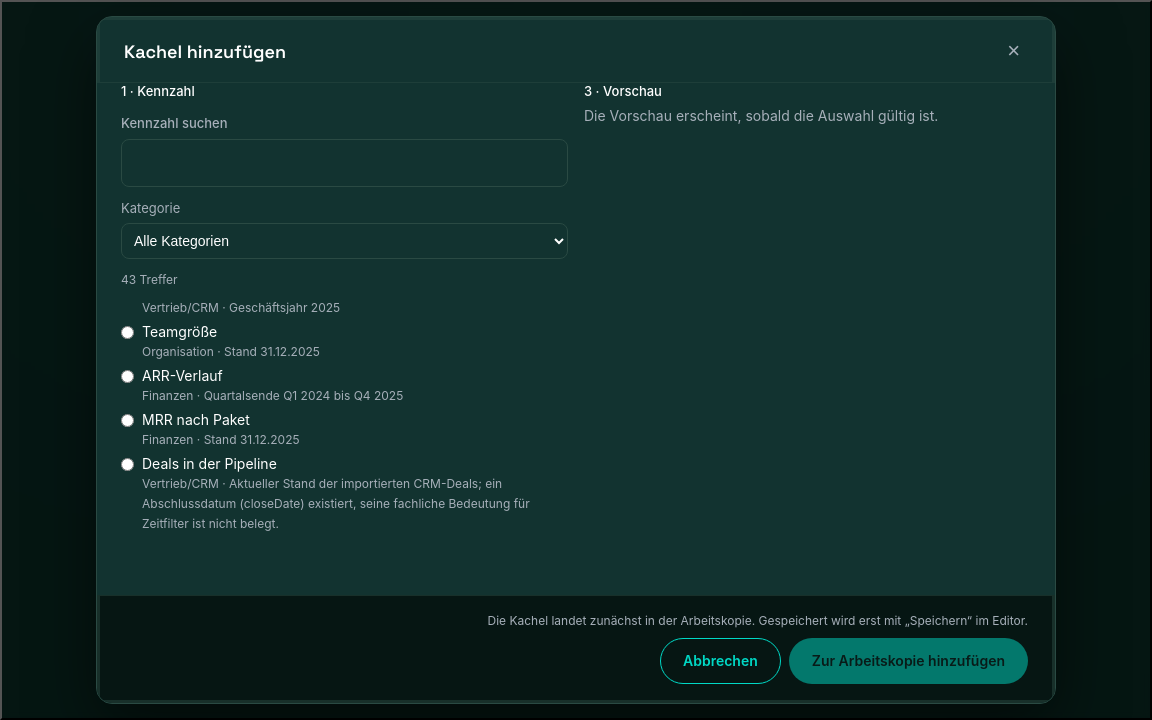
Scenario: TileConfigurator mit Kombination › Anteil bietet Ring an; Entfernen stellt die erste Kennzahl wieder her
The image size is (1152, 720).
(page scrolled)
Click the radio button labelled "MRR nach Paket Finanzen · Stand 31.12.2025". click: (128, 420)
box: [121,414,134,427]
(page scrolled)
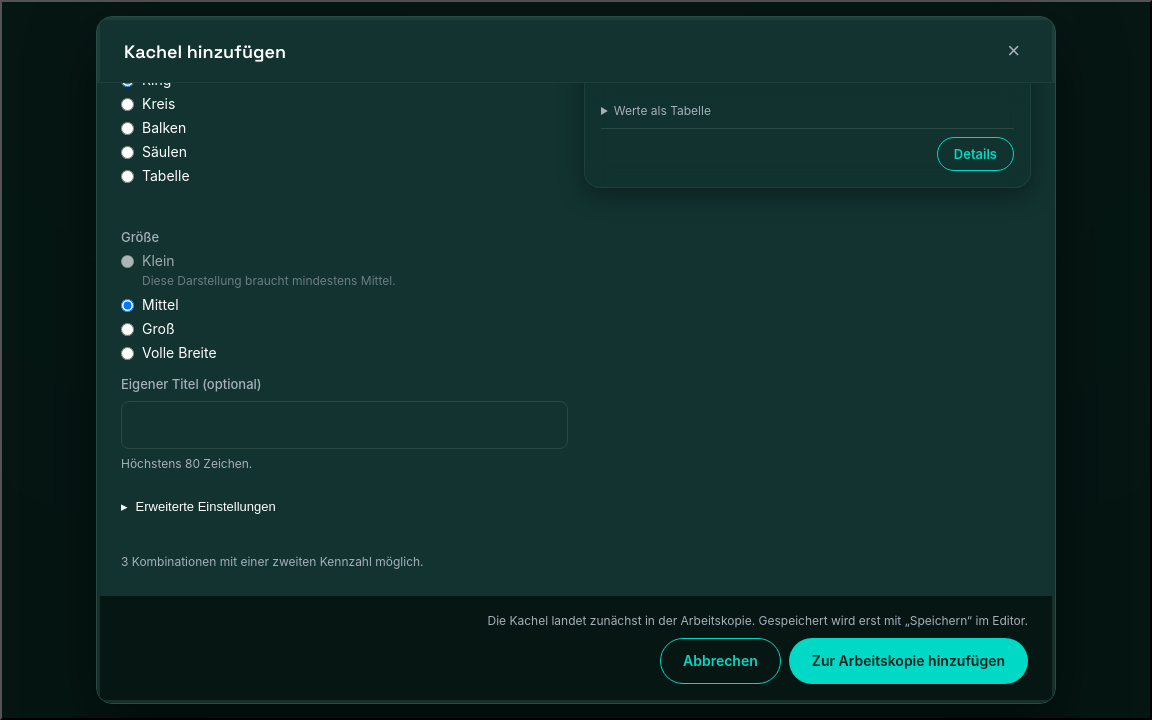
Click the button "▸ Erweiterte Einstellungen". click: (198, 506)
box: [121,484,276,528]
(page scrolled)
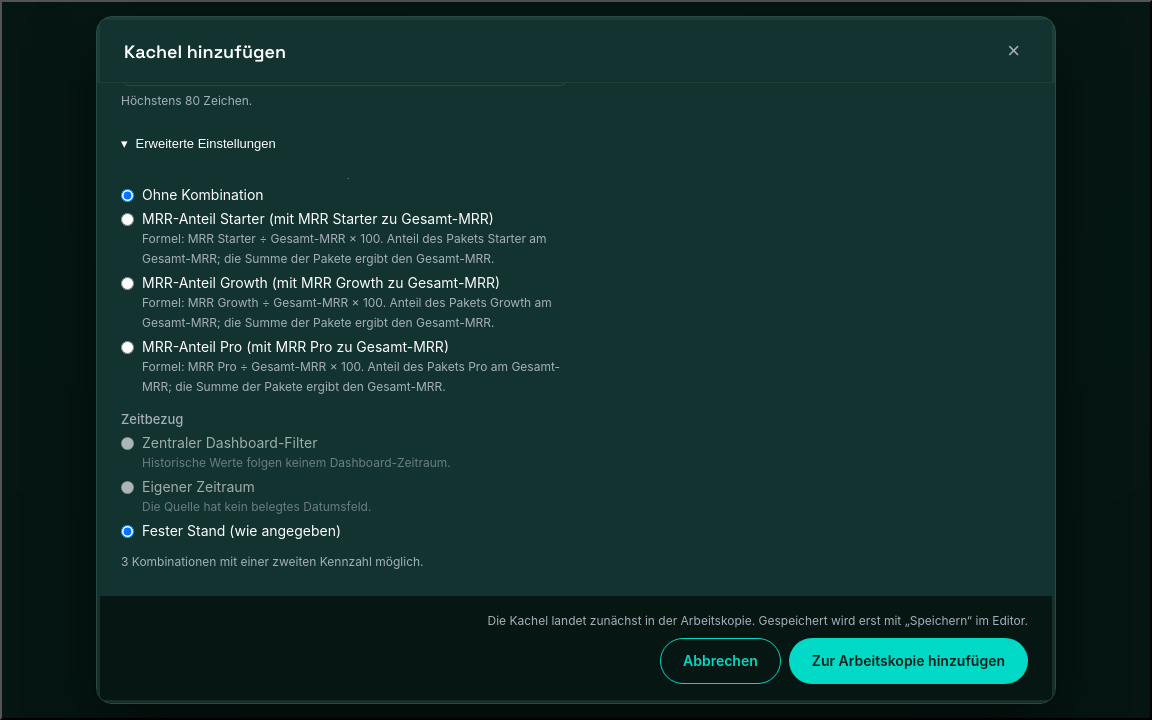
Expected: the message with test id "combination-status" reads "3 Kombinationen mit einer zweiten Kennzahl möglich.", [121,554,424,569]
Click the radio button labelled "MRR-Anteil Pro". click: (128, 348)
box: [121,341,134,354]
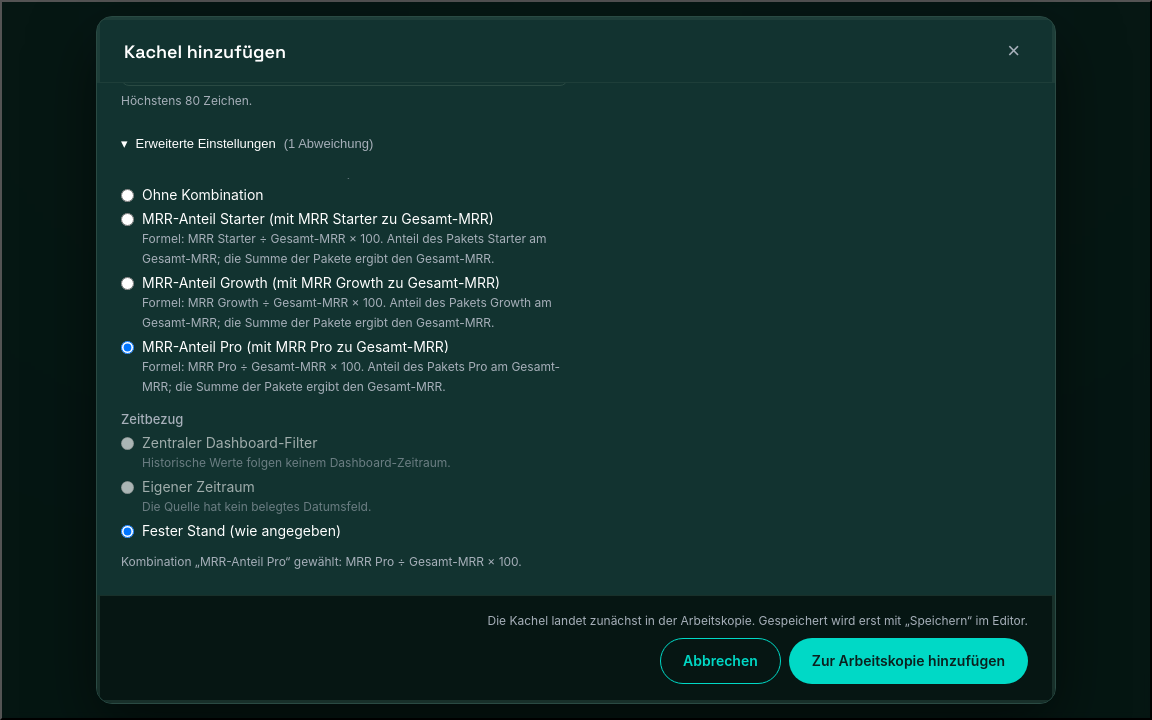
Click the radio button labelled "Ohne Kombination". click: (128, 196)
box: [121,189,134,202]
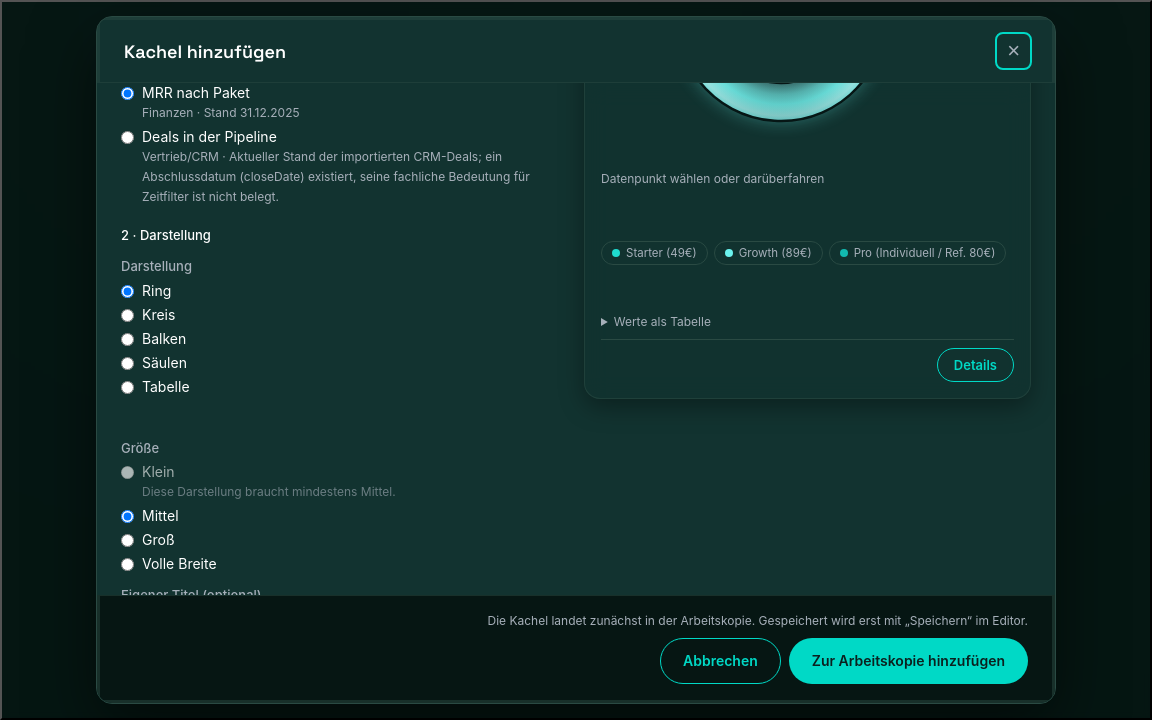
Expected: the radio button labelled "Balken" is shown, [121,332,134,346]
